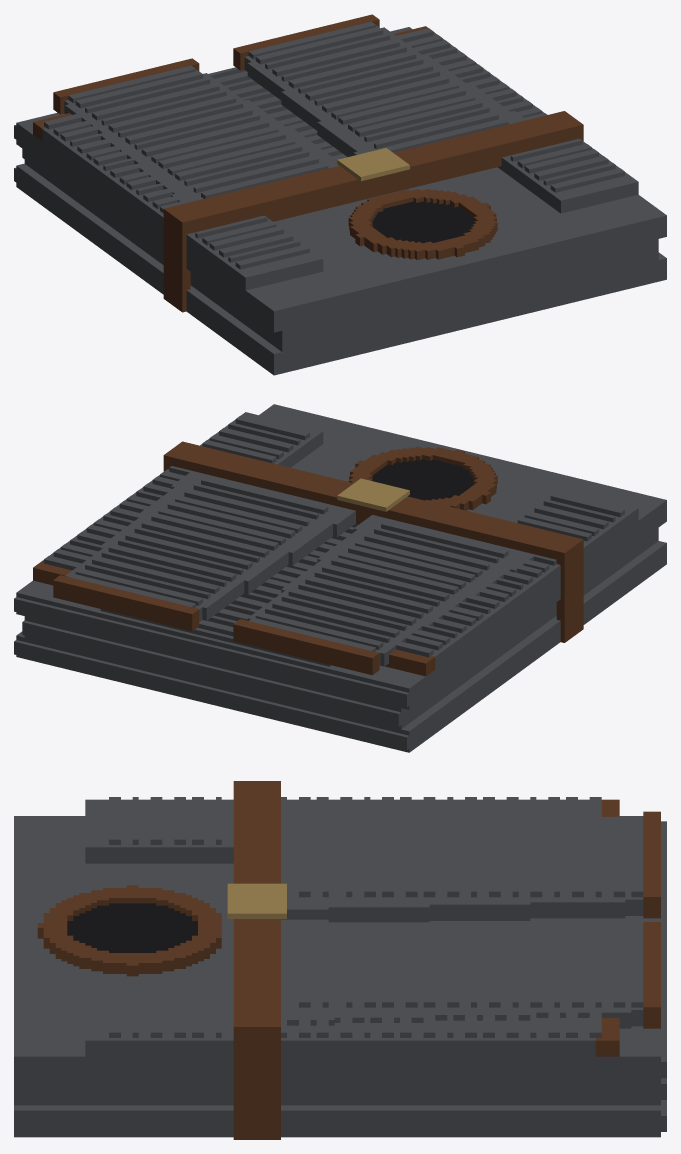
Rendered from mc_chainmail_jumpsuit.glb.
The picture shows the model from 3 angles, top to bottom: view 1: azimuth 30°, elevation 25°; view 2: azimuth 150°, elevation 25°; view 3: azimuth 270°, elevation 25°; orthographic projection. The views are drawn at different scales.
Parts seen in each view (by area): view 1: mc_chainmail_jumpsuit:compound; view 2: mc_chainmail_jumpsuit:compound; view 3: mc_chainmail_jumpsuit:compound.
Part boxes in pixels (<box>): mc_chainmail_jumpsuit:compound: <box>14,14,666,375</box>; mc_chainmail_jumpsuit:compound: <box>14,404,666,752</box>; mc_chainmail_jumpsuit:compound: <box>14,781,666,1139</box>.
Size of the model in its own units: 0.392 by 0.088 by 0.44.
